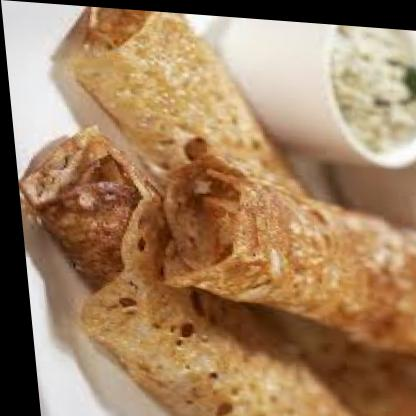dosa: (60, 3, 416, 416), (64, 189, 365, 416), (149, 130, 416, 366), (9, 119, 170, 298)
